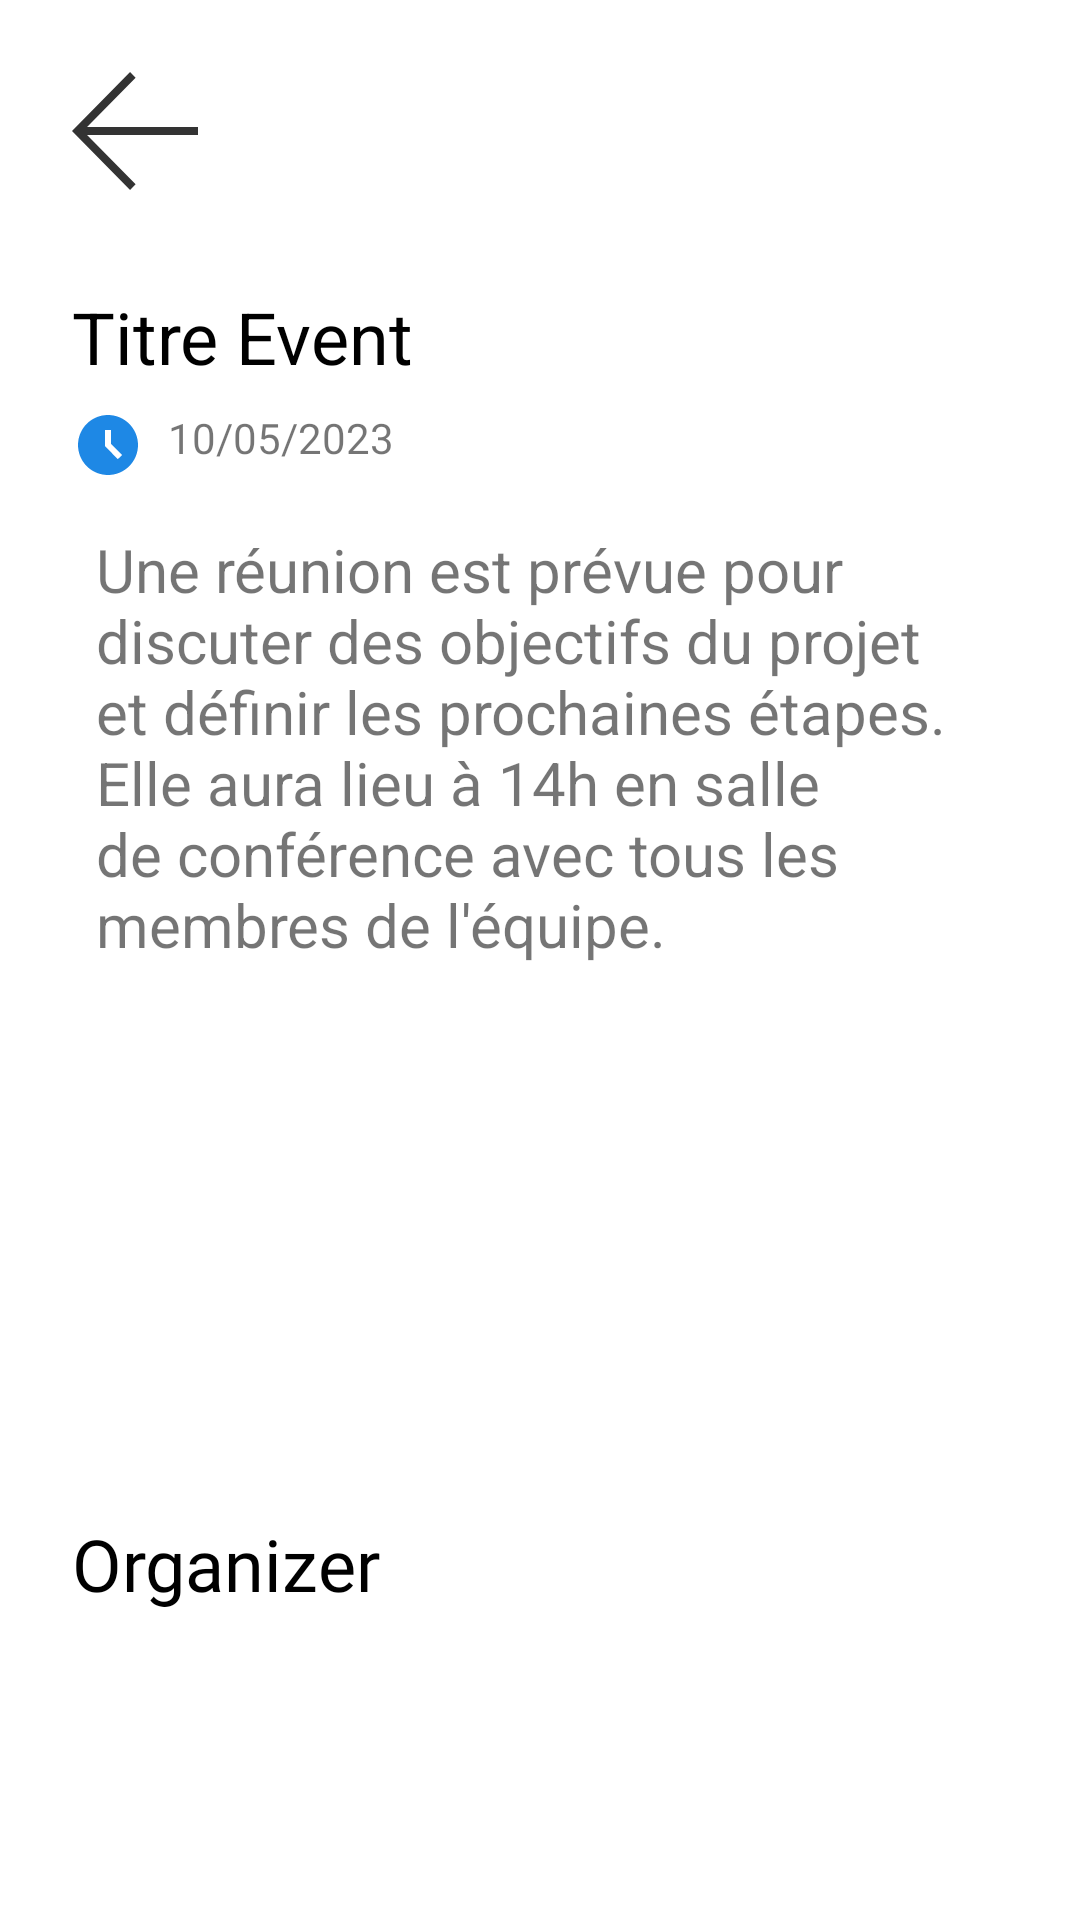

Named icons in this screenshot (1080px x 1920px) and their centers, point (x, y):
back: point (135, 131)
